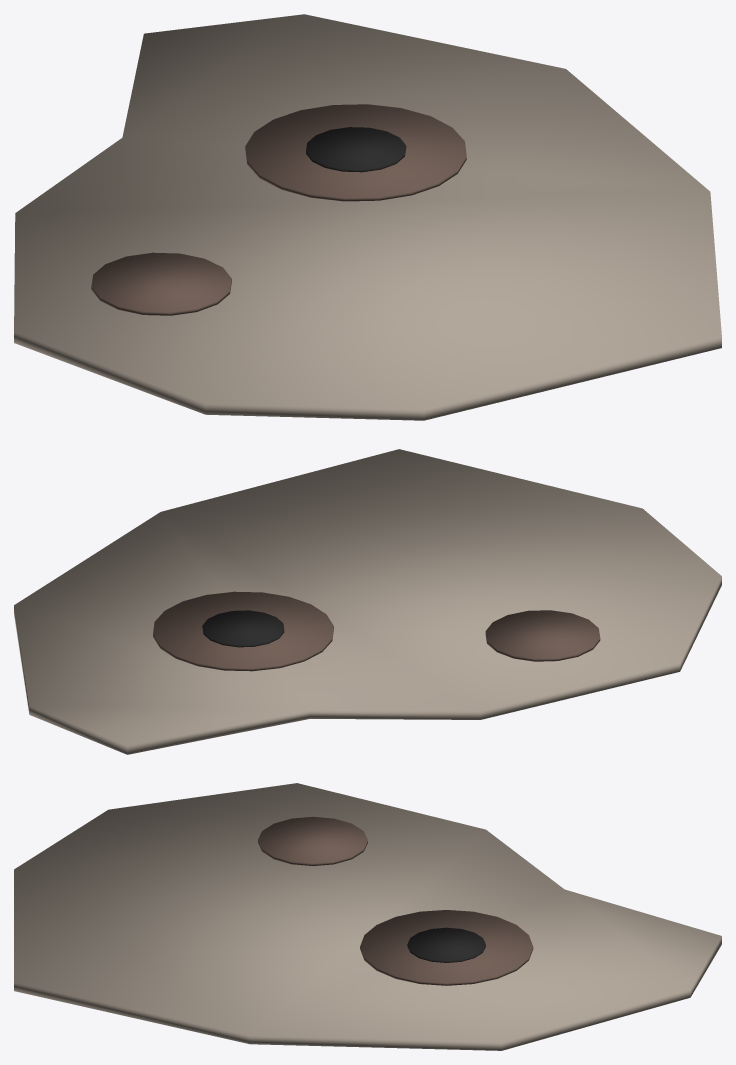
The model's file is SM_Deathmoth_Wing.fbx.
3 renders of one model, top to bottom at view 1: azimuth 30°, elevation 25°; view 2: azimuth 150°, elevation 25°; view 3: azimuth 270°, elevation 25°, orthographic. The views are drawn at different scales.
Visible parts, largest first — view 1: SM_Deathmoth_Wing; view 2: SM_Deathmoth_Wing; view 3: SM_Deathmoth_Wing.
Part boxes in pixels (left/top/right/bottom): SM_Deathmoth_Wing: left=14, top=14, right=721, bottom=420; SM_Deathmoth_Wing: left=14, top=449, right=721, bottom=754; SM_Deathmoth_Wing: left=14, top=783, right=721, bottom=1050.
Bounding box in the file's own units: 78 × 1.9 × 90.
